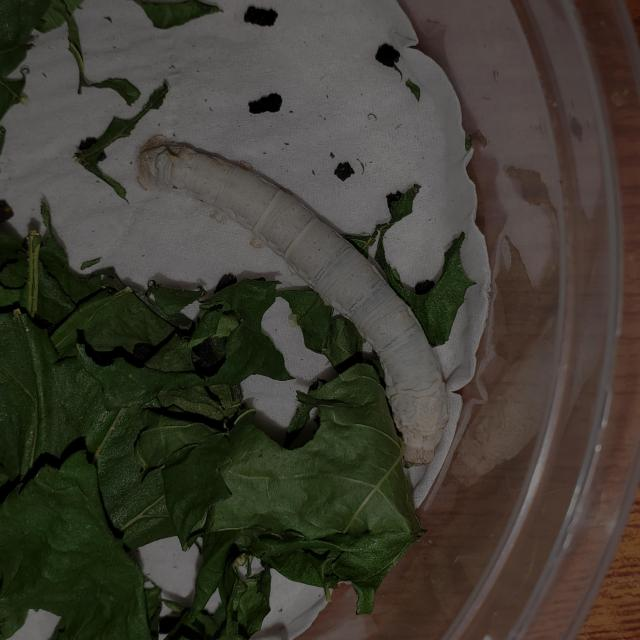Healthy: (104, 87, 472, 490)
